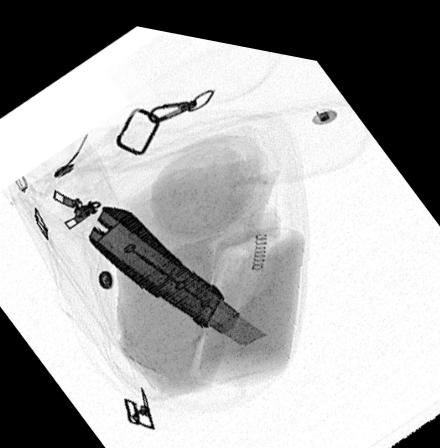Knife: (87, 201, 269, 338)
